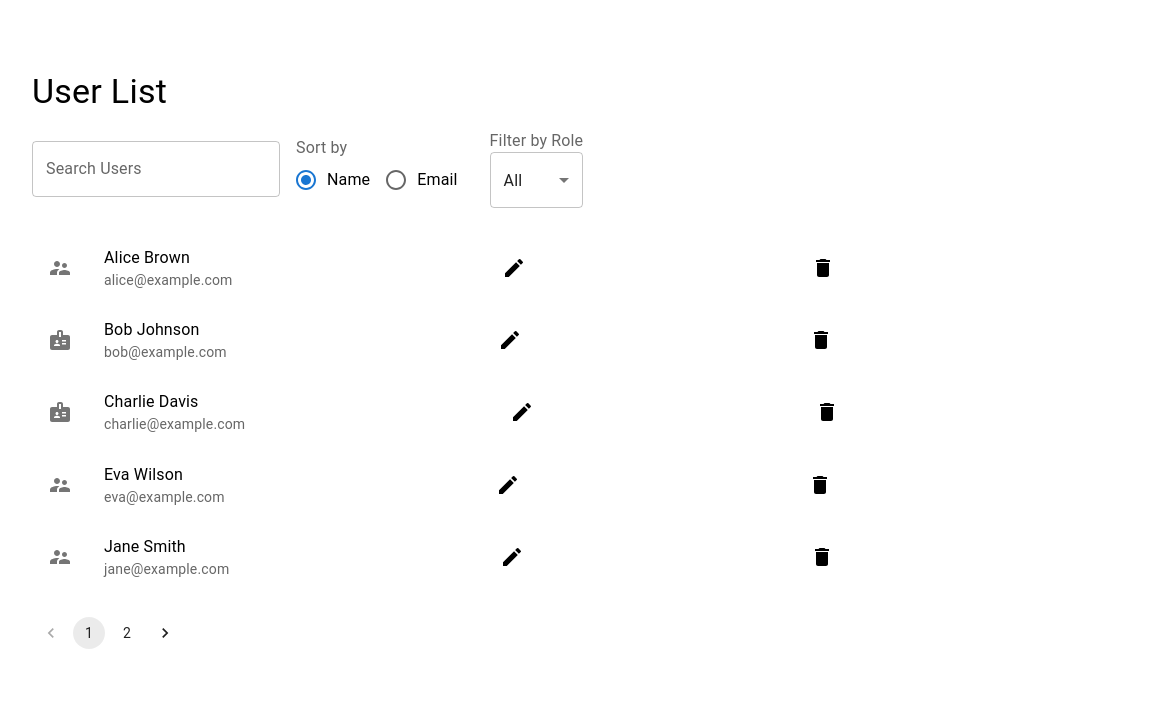
Test case: UserEmployeeListMittel › displays "no users matching" message when search yields no results
This screenshot has width=1152, height=720.
Type "NonexistentUser" into the field labelled "Search Users". click: (156, 169)
box: [32, 141, 280, 197]
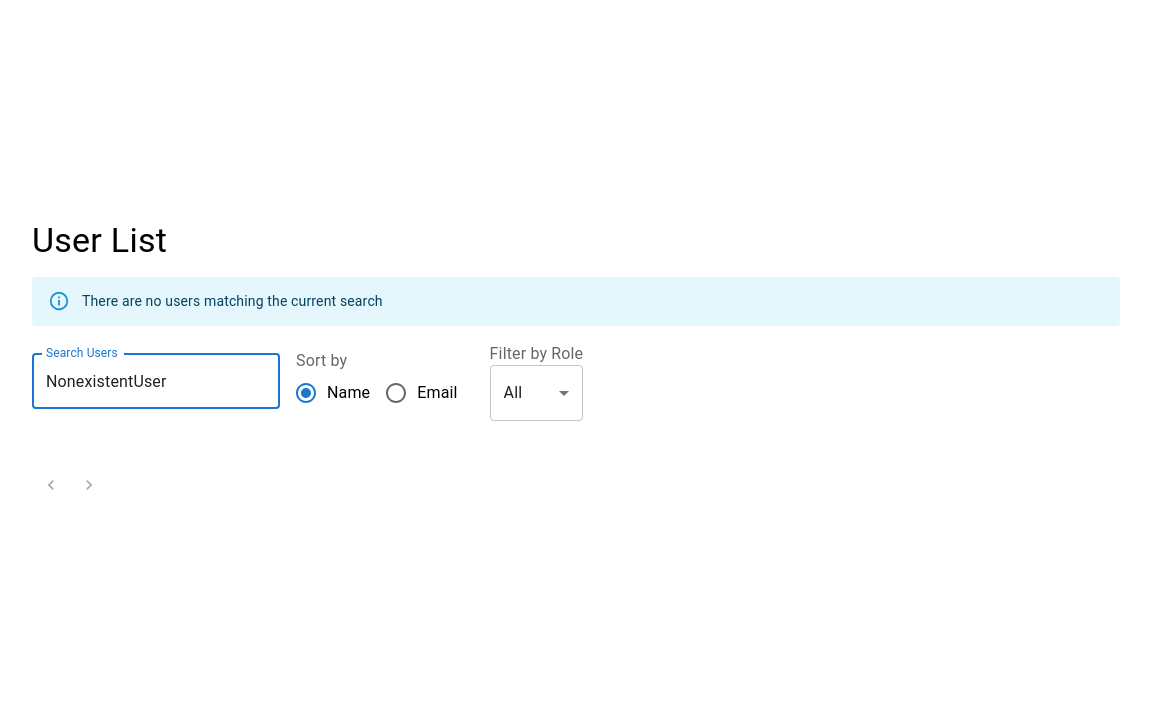
Now the text "There are no users matching the current search" is shown, box [82, 294, 383, 310]
